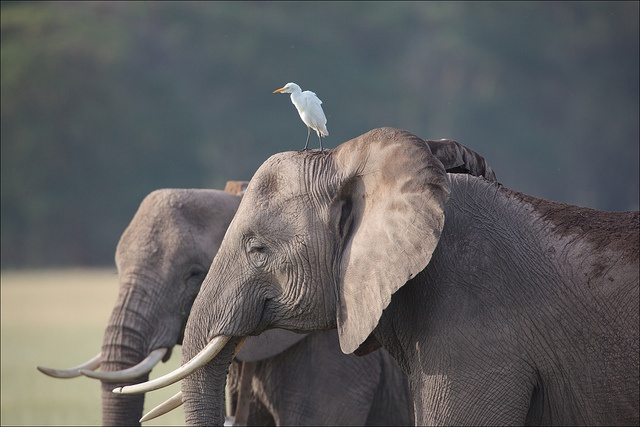elephant: (112, 124, 640, 427), (34, 181, 410, 427)
